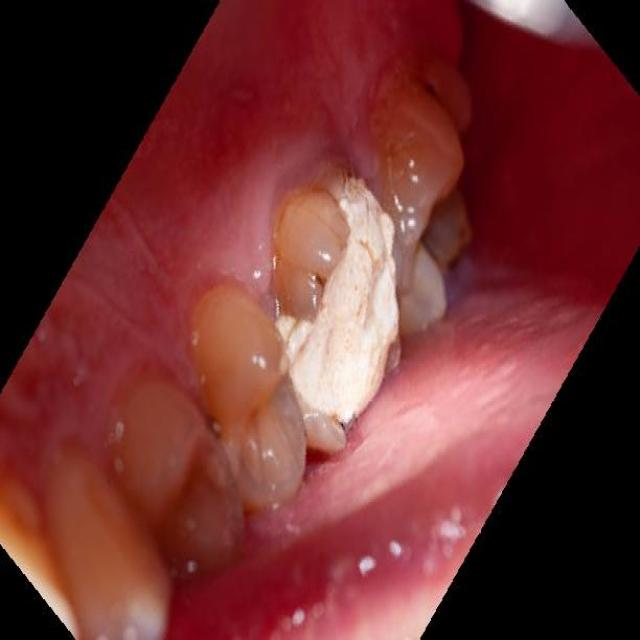caries: (280, 182, 400, 420)
